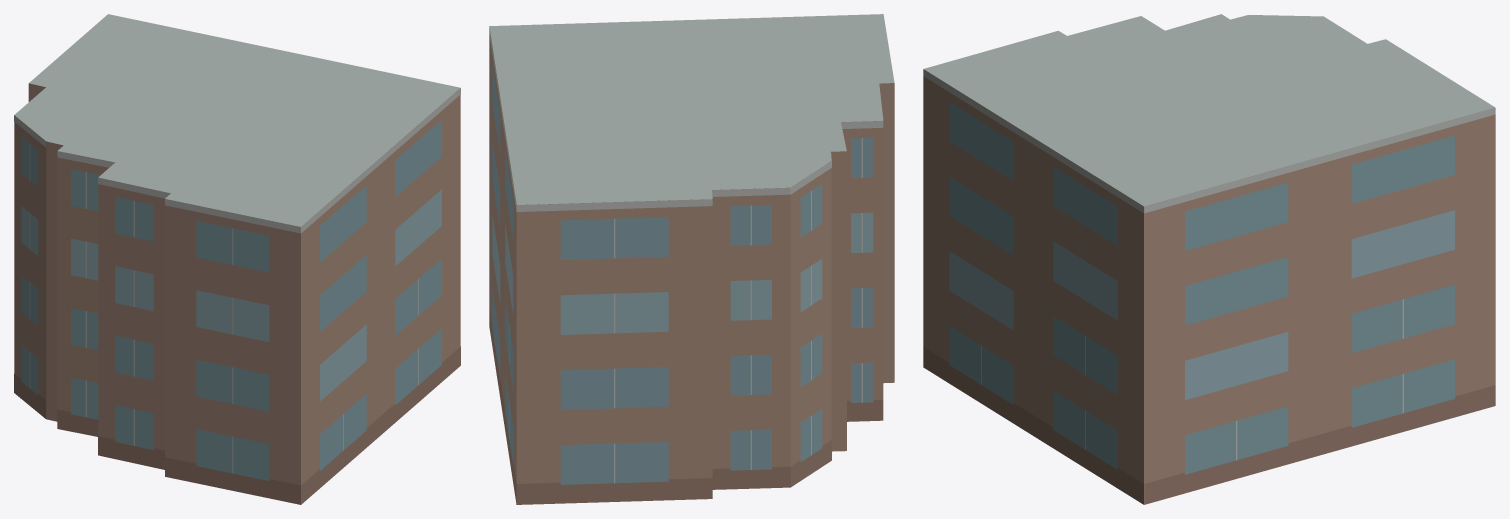
Rendered from survey-upis-32620869.glb.
3 views of the same model, side by side, from view 1: azimuth 30°, elevation 25°; view 2: azimuth 150°, elevation 25°; view 3: azimuth 270°, elevation 25° (orthographic). The views are drawn at different scales.
Visible parts, largest first — view 1: survey-upis-32620869.tmp; view 2: survey-upis-32620869.tmp; view 3: survey-upis-32620869.tmp.
Part boxes in pixels (x1,y1,x2,y2): survey-upis-32620869.tmp: (14,14,460,504); survey-upis-32620869.tmp: (489,14,894,504); survey-upis-32620869.tmp: (923,14,1495,504).
Bounding box in the file's own units: 14.47 × 10.45 × 18.17.
